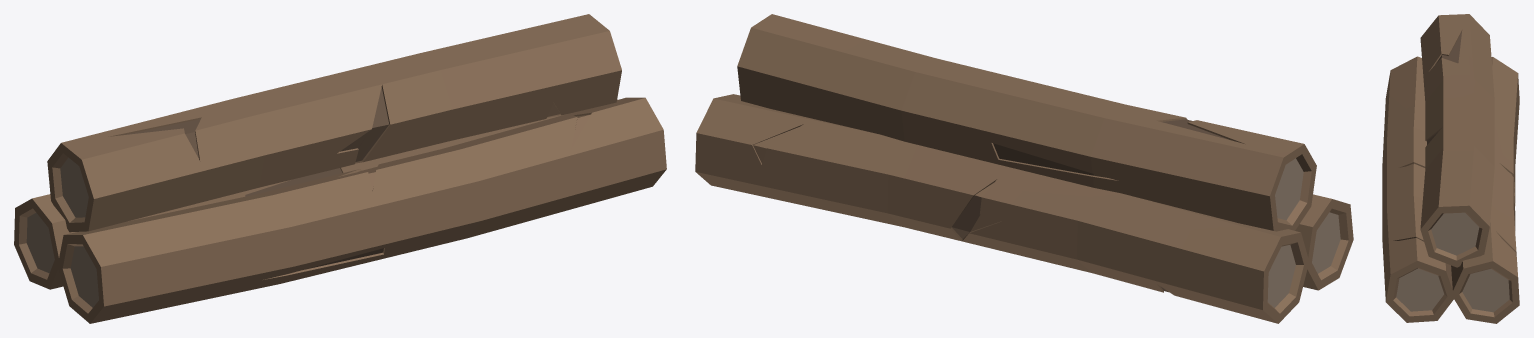
File: props_88.glb
3 renders of one model, left to right at view 1: azimuth 30°, elevation 25°; view 2: azimuth 150°, elevation 25°; view 3: azimuth 270°, elevation 25°, orthographic. The views are drawn at different scales.
Visible parts, largest first — view 1: props_88; view 2: props_88; view 3: props_88.
Boxes of the visible parts, left/top/right/bottom form: props_88: left=14, top=14, right=666, bottom=323; props_88: left=695, top=14, right=1353, bottom=323; props_88: left=1382, top=14, right=1519, bottom=323.
Size of the model in its own units: 1.9 by 0.4873 by 0.5406.
1 material, 1 textured.
